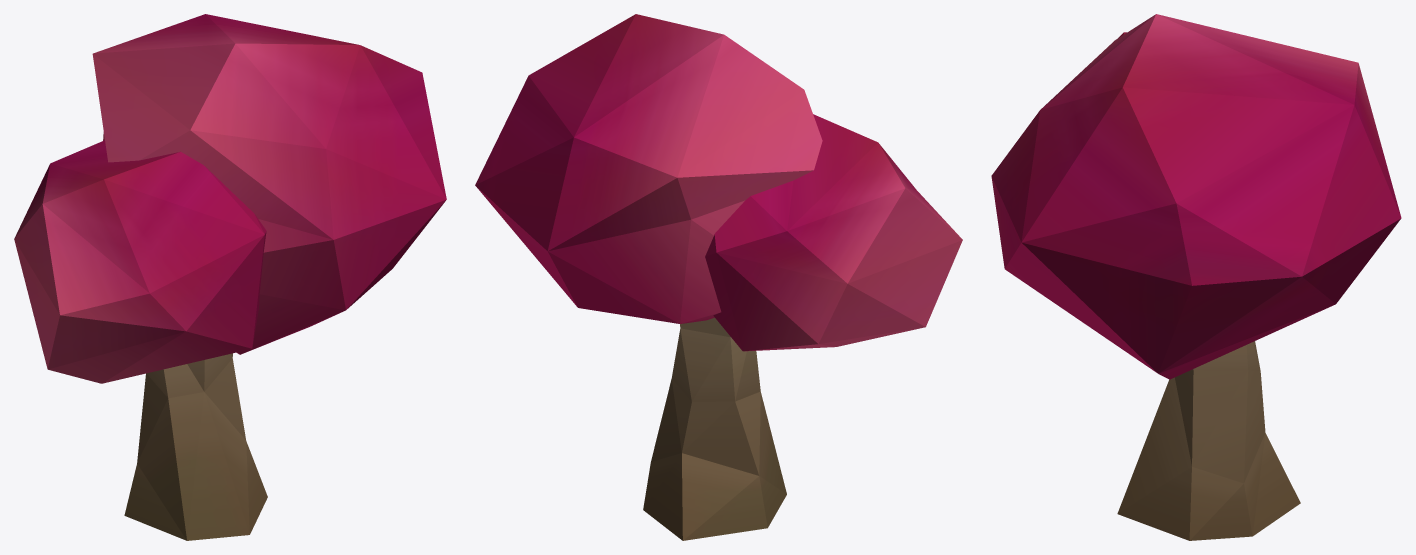
File: plum_tree.glb
3 renders of one model, left to right at view 1: azimuth 30°, elevation 25°; view 2: azimuth 150°, elevation 25°; view 3: azimuth 270°, elevation 25°, orthographic. The views are drawn at different scales.
Visible parts, largest first — view 1: plum_tree; view 2: plum_tree; view 3: plum_tree.
Boxes of the visible parts, left/top/right/bottom form: plum_tree: left=14, top=14, right=446, bottom=540; plum_tree: left=475, top=14, right=962, bottom=540; plum_tree: left=991, top=14, right=1401, bottom=540.
Size of the model in its own units: 4.48 by 4.8 by 3.55.
1 material, 1 textured.
